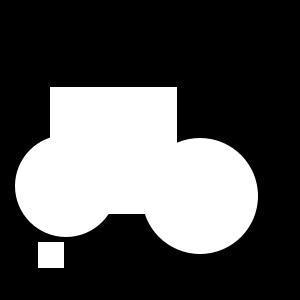circle: (50, 87, 177, 214), (38, 242, 64, 268)
rectangle: (142, 138, 258, 254), (15, 135, 117, 237)
triangle: (130, 139, 140, 149)
